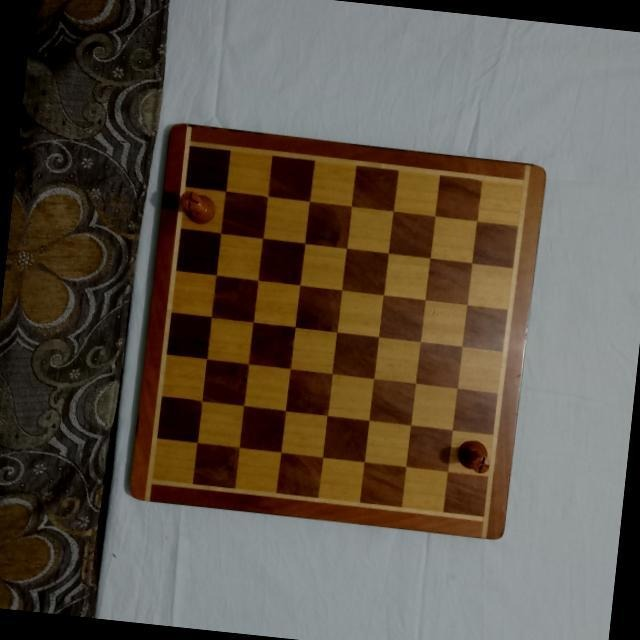white-rook: (452, 436, 492, 476), (177, 186, 218, 225)
